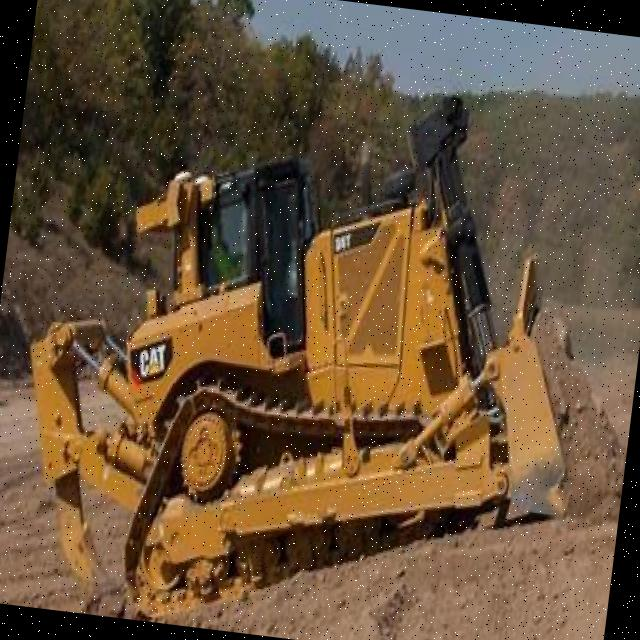Bulldozer: (0, 59, 638, 640)
